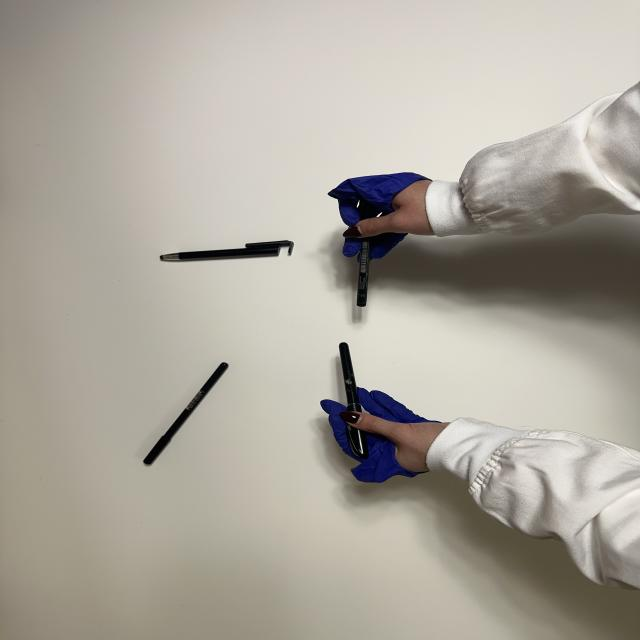glove_partial: (314, 386, 450, 484), (326, 172, 436, 260)
